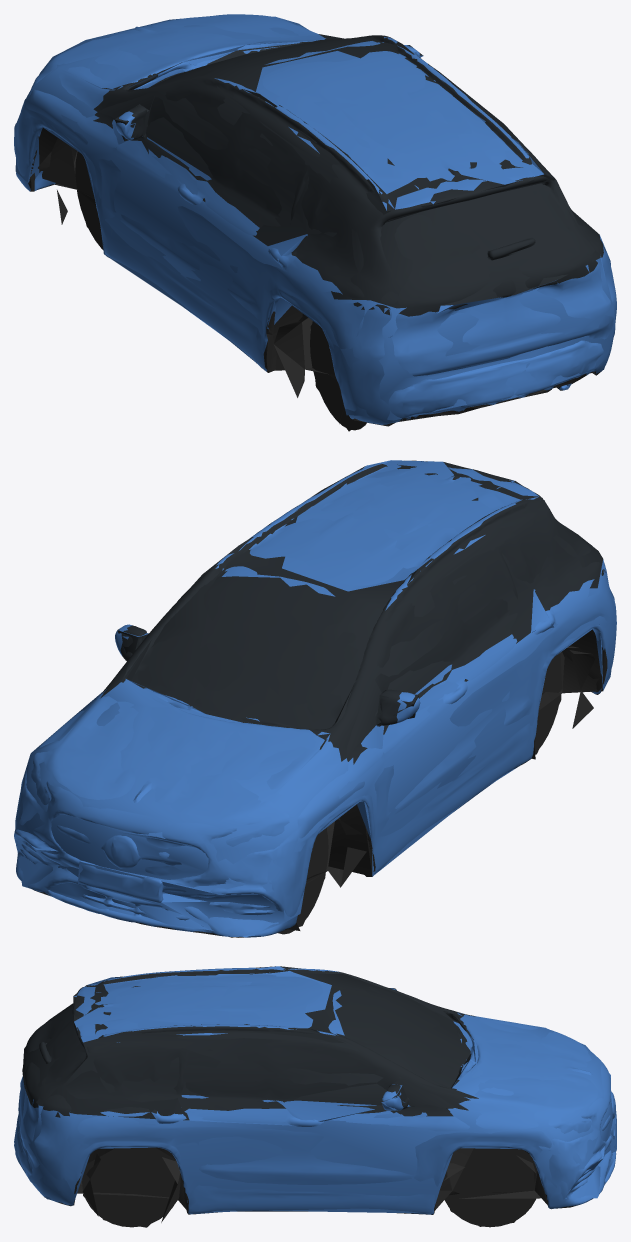
Rendered from mercedes-benz-gla.glb.
3 views of the same model, one above another, from view 1: azimuth 30°, elevation 25°; view 2: azimuth 150°, elevation 25°; view 3: azimuth 270°, elevation 25° (orthographic). The views are drawn at different scales.
Parts seen in each view (by area): view 1: body, far; view 2: body, far; view 3: body, far.
Boxes of the visible parts, x1,y1,x2,y2 form: body: (14, 14, 616, 430); far: (15, 16, 615, 431); body: (14, 460, 616, 937); far: (16, 460, 616, 937); body: (14, 967, 616, 1227); far: (14, 966, 616, 1227).
Size of the model in its own units: 1.96 by 1.61 by 4.46.
